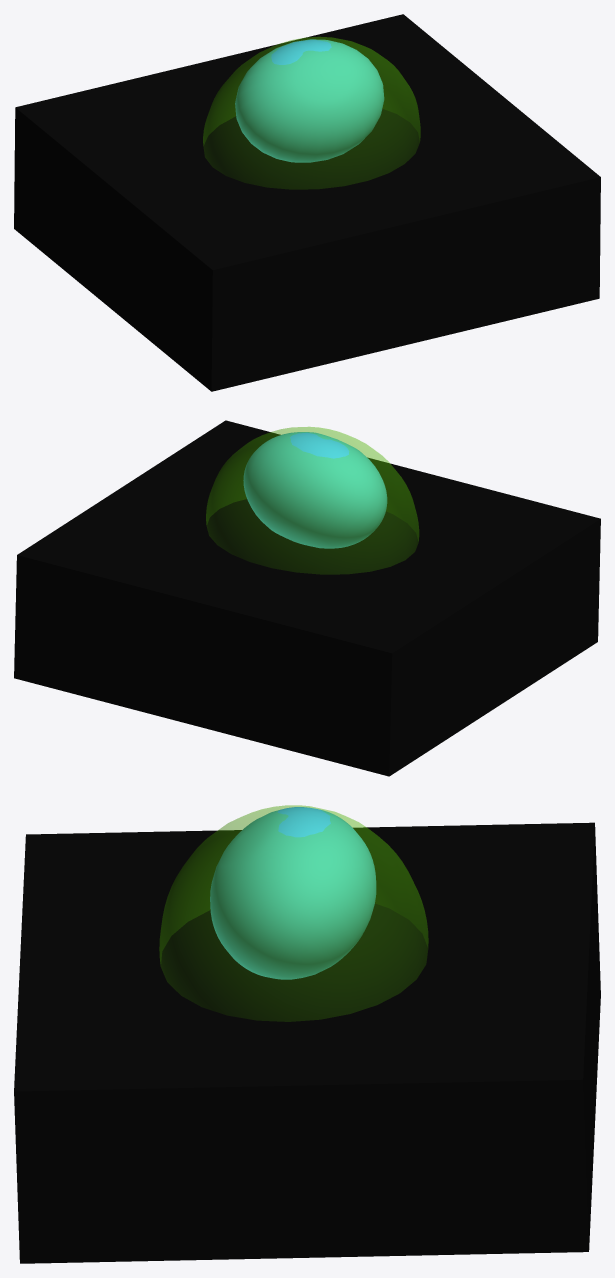
File: plasma ball hologram puzzle lock base when hologram is off.fbx
3 views of the same model, one above another, from view 1: azimuth 30°, elevation 25°; view 2: azimuth 150°, elevation 25°; view 3: azimuth 270°, elevation 25° (orthographic). The views are drawn at different scales.
Parts seen in each view (by area): view 1: cb787063-5087-456e-92db-865620fa66f6; view 2: cb787063-5087-456e-92db-865620fa66f6; view 3: cb787063-5087-456e-92db-865620fa66f6.
Part boxes in pixels (left/top/right/bottom): cb787063-5087-456e-92db-865620fa66f6: left=14, top=14, right=600, bottom=391; cb787063-5087-456e-92db-865620fa66f6: left=14, top=420, right=600, bottom=776; cb787063-5087-456e-92db-865620fa66f6: left=14, top=805, right=600, bottom=1263.
Size of the model in its own units: 45180 by 25218 by 42139.
